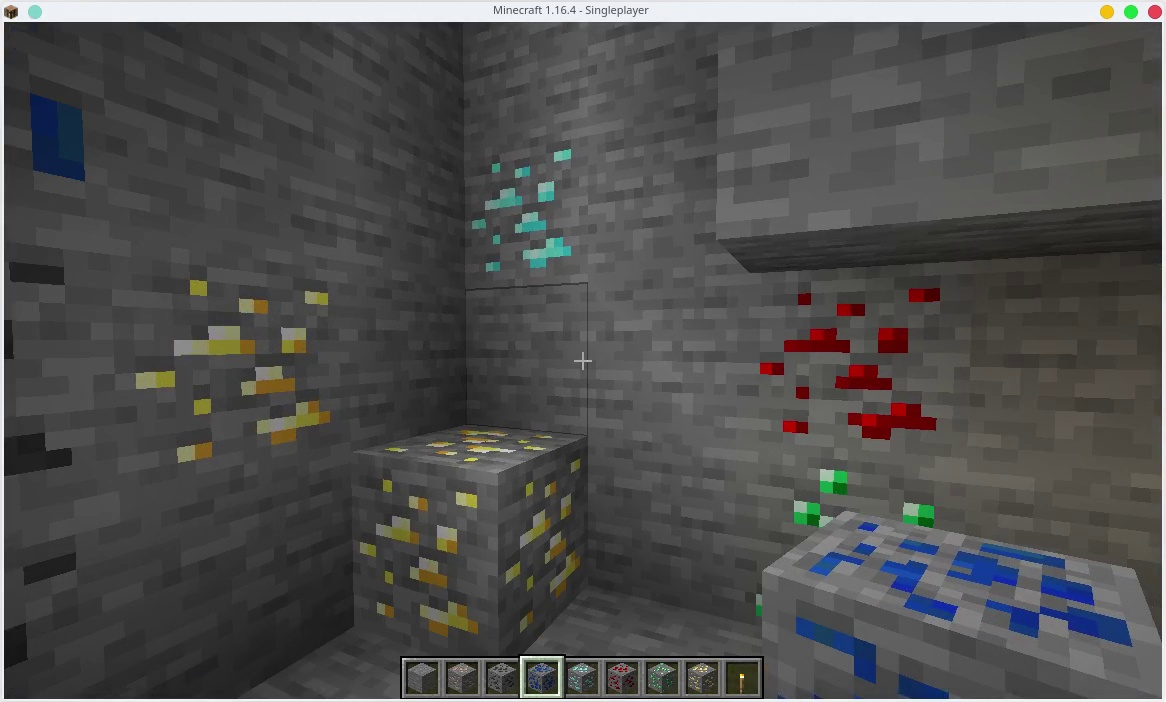gold: (365, 433, 585, 639), (125, 254, 332, 467), (687, 661, 717, 693)
